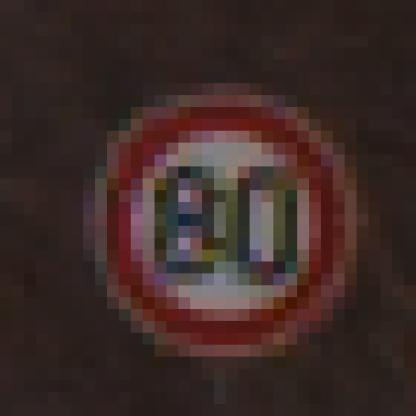Speed Limit -80-: (87, 88, 380, 366)
